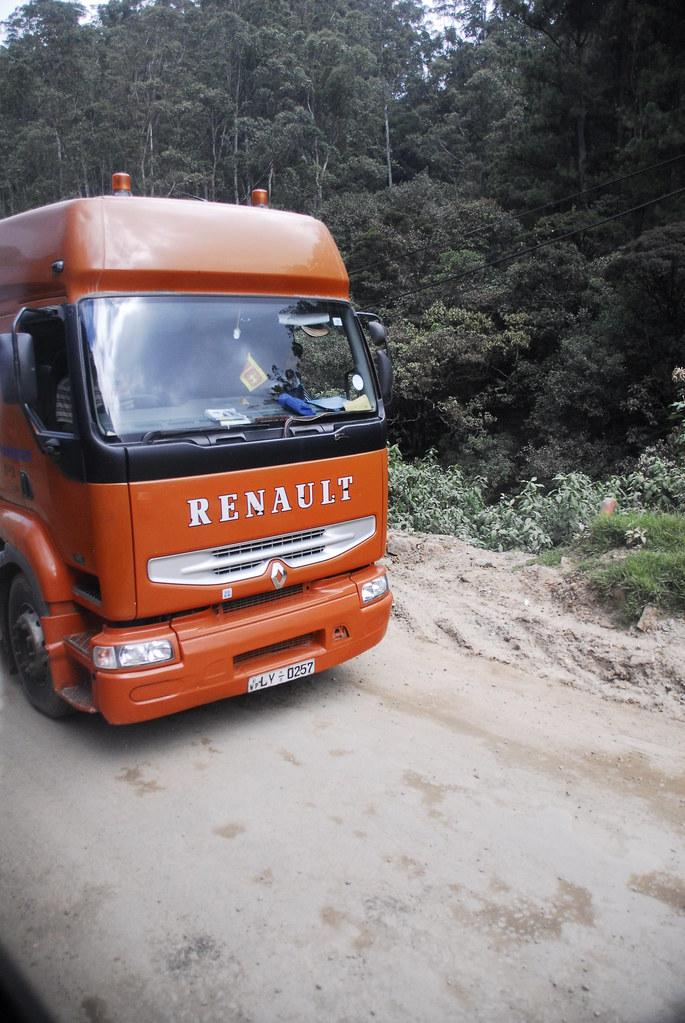truck: (2, 172, 392, 727)
